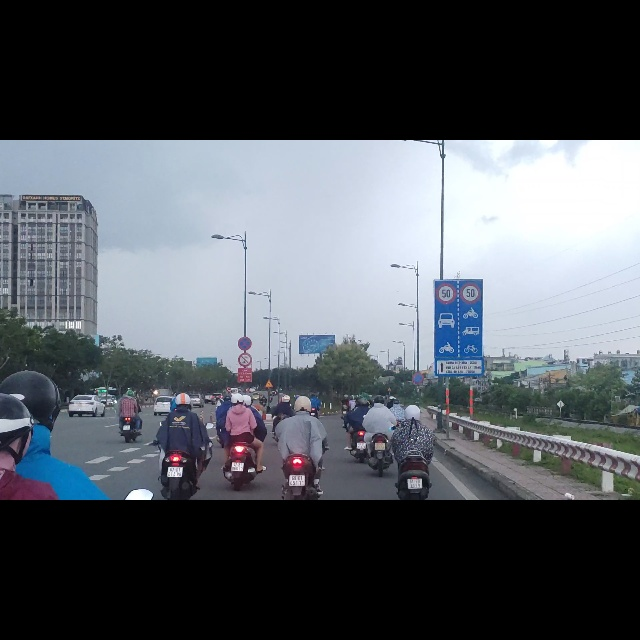bien_cam: (459, 252, 481, 290), (436, 254, 457, 292), (237, 349, 252, 375), (238, 377, 252, 404), (411, 412, 424, 436), (264, 425, 274, 441)
